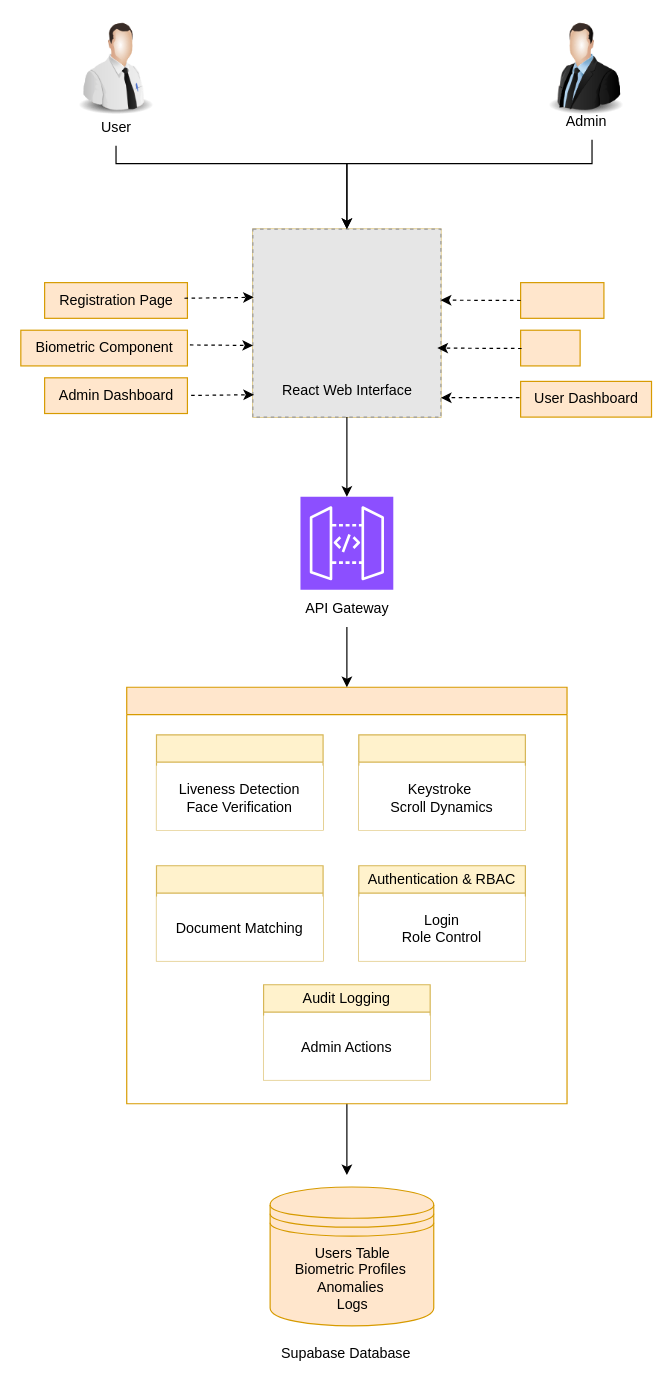
The diagram is 672 pixels wide and 1391 high, and some of its shapes have lost their labels. Grey dashed boxes stand in for pictures. The box of each missing label's shape, as (x1, y1, x2, y2) in pixels:
Backend Services: (126, 686, 567, 1104)
Behavioral Monitoring: (358, 734, 525, 830)
Biometric Processing: (155, 734, 323, 830)
eKYC: (519, 329, 580, 366)
eKYC Verification: (155, 865, 323, 961)
Settings: (519, 281, 604, 318)
